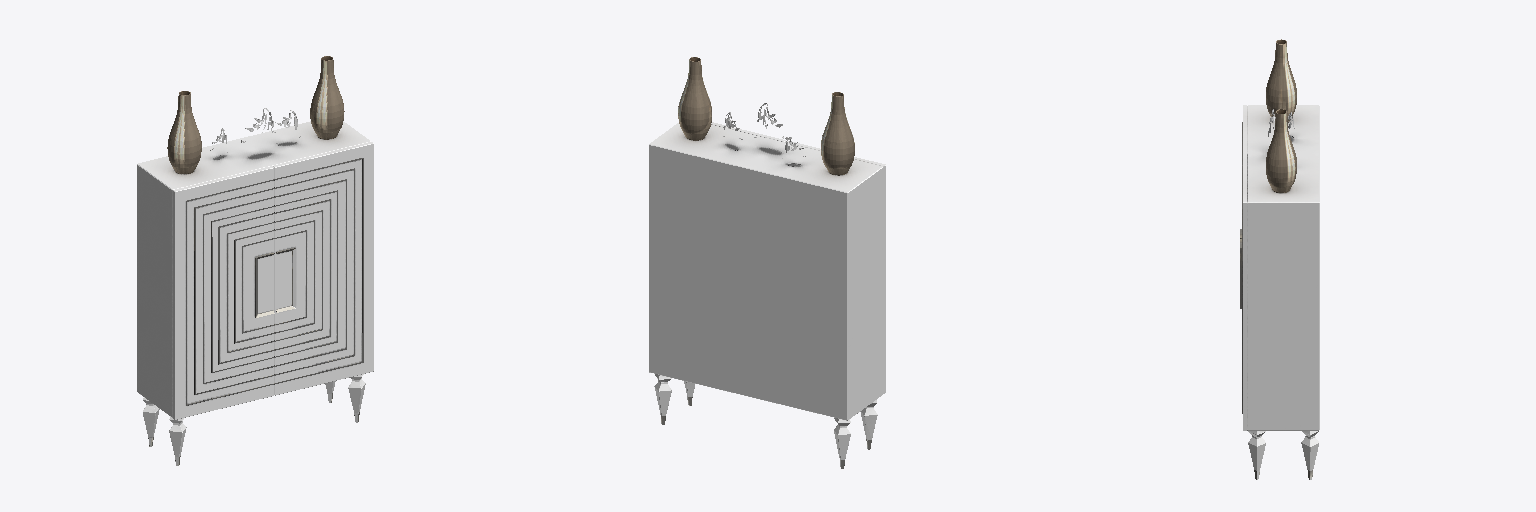
The picture shows the model from 3 angles: view 1: azimuth 30°, elevation 25°; view 2: azimuth 150°, elevation 25°; view 3: azimuth 270°, elevation 25°; orthographic projection.
Visible parts, largest first — view 1: solid_002, solid_003, solid_004; view 2: solid_002, solid_004; view 3: solid_002, solid_004.
Boxes of the visible parts, x1,y1,x2,y2 form: solid_002: [137, 121, 373, 456]; solid_003: [186, 158, 363, 405]; solid_004: [167, 56, 344, 173]; solid_002: [649, 122, 885, 459]; solid_004: [678, 57, 854, 175]; solid_002: [1243, 105, 1319, 470]; solid_004: [1266, 39, 1296, 192].
Bounding box in the file's own units: 1.04 × 1.73 × 0.3864.
Materials: 1 (1 with a texture image).